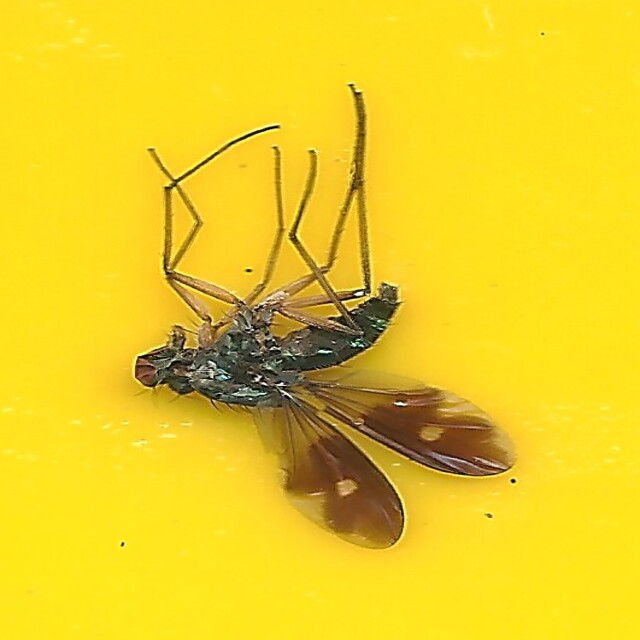Brachycera: (121, 88, 519, 552)
